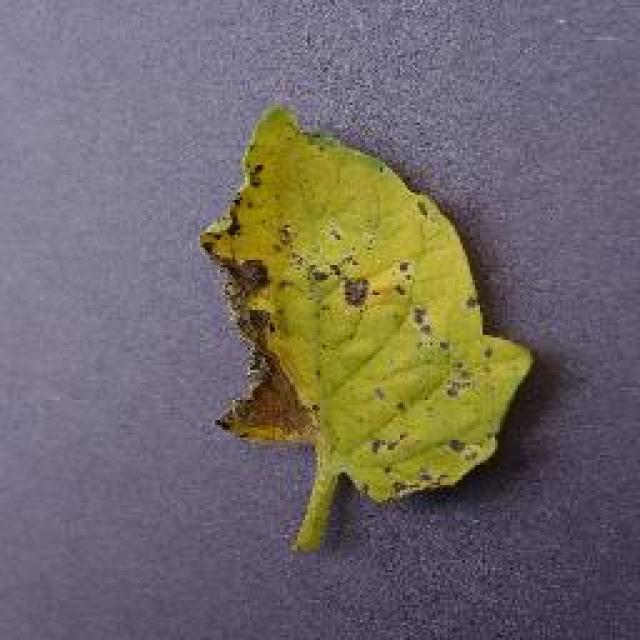Tomato Septoria spot leaf: (202, 101, 539, 504)
